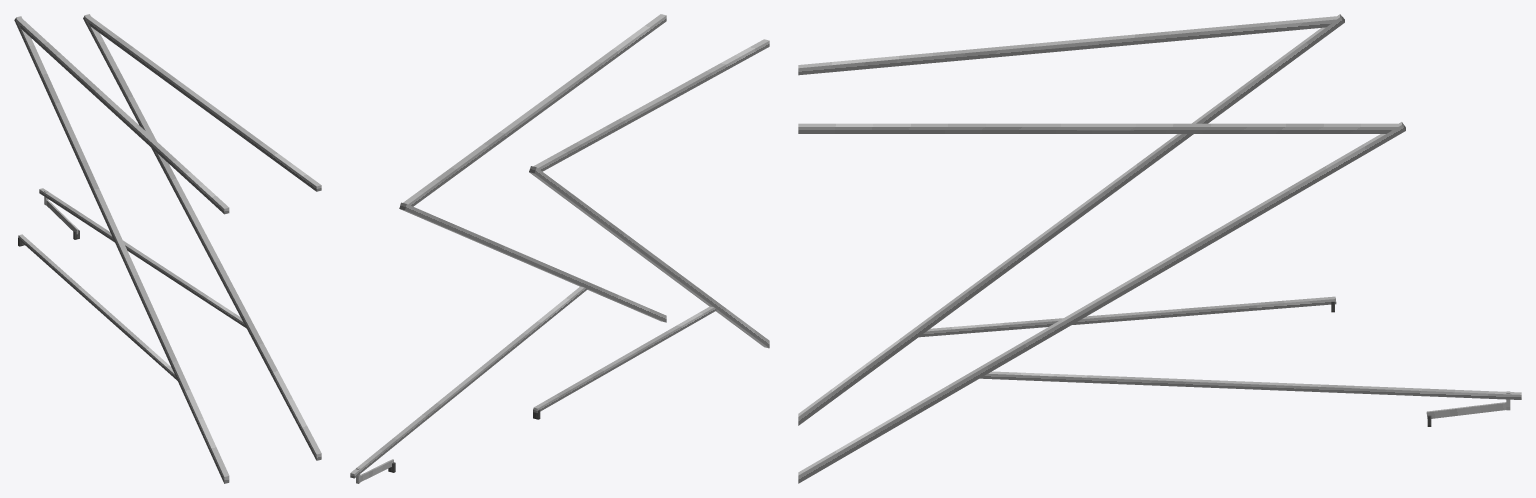
Rendered from cantilever_outer_4px.obj.
The picture shows the model from 3 angles, left to right: view 1: azimuth 30°, elevation 25°; view 2: azimuth 150°, elevation 25°; view 3: azimuth 270°, elevation 25°; orthographic projection. The views are drawn at different scales.
Parts seen in each view (by area): view 1: 0bd56dad-871c-468a-91d1-efb4005ad7b2, dc74f774-39d4-46e4-8e64-83f6cdff5efc, b747be16-e093-4ca2-a858-399e9a87e699, 6f4259e9-138f-485d-8e72-d8028c1fed37, 8867352b-4ffe-4b1a-afe9-b587d27bb0f2, ea17ab26-dbb2-4b04-bfaf-0ac6bb488b65; view 2: b747be16-e093-4ca2-a858-399e9a87e699, 0bd56dad-871c-468a-91d1-efb4005ad7b2, 6f4259e9-138f-485d-8e72-d8028c1fed37, dc74f774-39d4-46e4-8e64-83f6cdff5efc, 8867352b-4ffe-4b1a-afe9-b587d27bb0f2, ea17ab26-dbb2-4b04-bfaf-0ac6bb488b65; view 3: dc74f774-39d4-46e4-8e64-83f6cdff5efc, 0bd56dad-871c-468a-91d1-efb4005ad7b2, b747be16-e093-4ca2-a858-399e9a87e699, 6f4259e9-138f-485d-8e72-d8028c1fed37, 8867352b-4ffe-4b1a-afe9-b587d27bb0f2, ea17ab26-dbb2-4b04-bfaf-0ac6bb488b65.
Part boxes in pixels (left/top/right/bottom): 0bd56dad-871c-468a-91d1-efb4005ad7b2: left=14, top=16, right=229, bottom=483; dc74f774-39d4-46e4-8e64-83f6cdff5efc: left=83, top=14, right=321, bottom=460; b747be16-e093-4ca2-a858-399e9a87e699: left=86, top=16, right=321, bottom=191; 6f4259e9-138f-485d-8e72-d8028c1fed37: left=17, top=18, right=229, bottom=214; 8867352b-4ffe-4b1a-afe9-b587d27bb0f2: left=39, top=188, right=245, bottom=327; ea17ab26-dbb2-4b04-bfaf-0ac6bb488b65: left=18, top=234, right=177, bottom=380; b747be16-e093-4ca2-a858-399e9a87e699: left=403, top=14, right=666, bottom=206; 0bd56dad-871c-468a-91d1-efb4005ad7b2: left=529, top=166, right=769, bottom=348; 6f4259e9-138f-485d-8e72-d8028c1fed37: left=533, top=39, right=769, bottom=171; dc74f774-39d4-46e4-8e64-83f6cdff5efc: left=399, top=202, right=666, bottom=322; 8867352b-4ffe-4b1a-afe9-b587d27bb0f2: left=350, top=286, right=587, bottom=478; ea17ab26-dbb2-4b04-bfaf-0ac6bb488b65: left=533, top=306, right=716, bottom=412; dc74f774-39d4-46e4-8e64-83f6cdff5efc: left=798, top=122, right=1405, bottom=483; 0bd56dad-871c-468a-91d1-efb4005ad7b2: left=798, top=14, right=1344, bottom=425; b747be16-e093-4ca2-a858-399e9a87e699: left=798, top=123, right=1398, bottom=133; 6f4259e9-138f-485d-8e72-d8028c1fed37: left=798, top=16, right=1336, bottom=75; 8867352b-4ffe-4b1a-afe9-b587d27bb0f2: left=980, top=371, right=1521, bottom=399; ea17ab26-dbb2-4b04-bfaf-0ac6bb488b65: left=919, top=296, right=1336, bottom=337.
Size of the model in its own units: 1.19 by 3.66 by 5.87.
